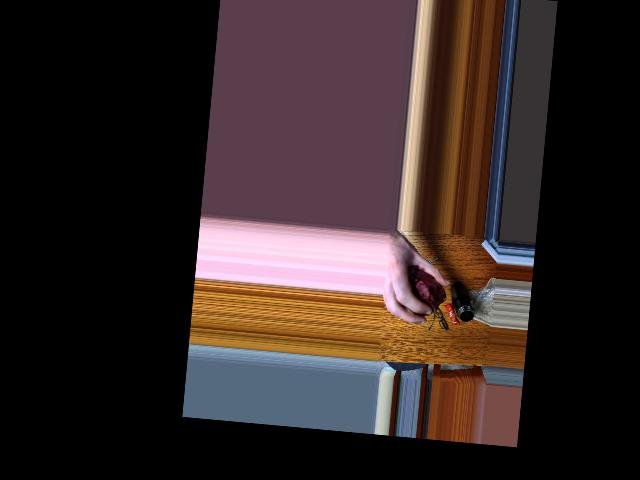onion: (402, 264, 444, 313)
